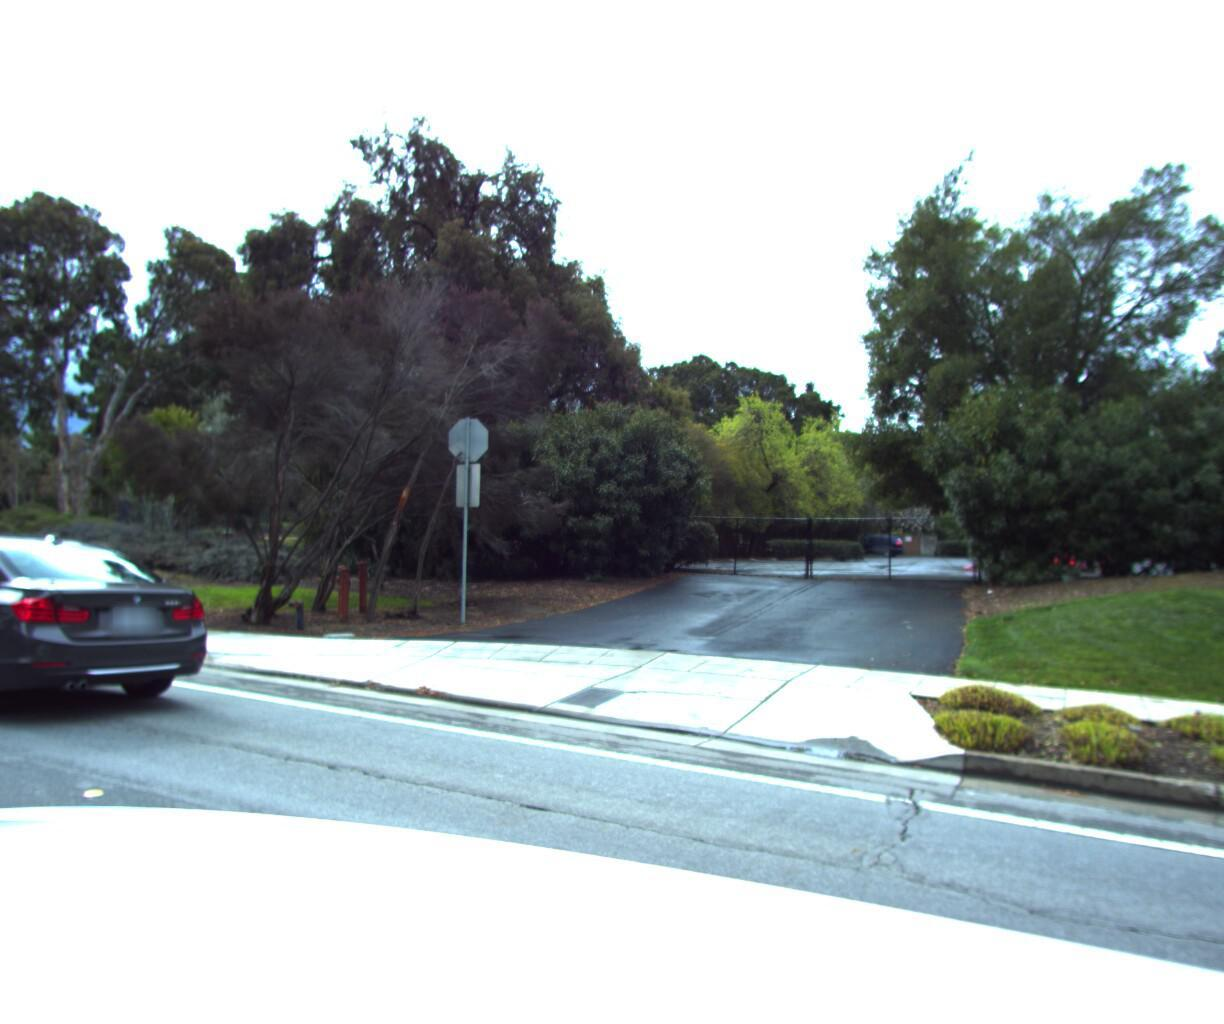car: (0, 527, 241, 760)
